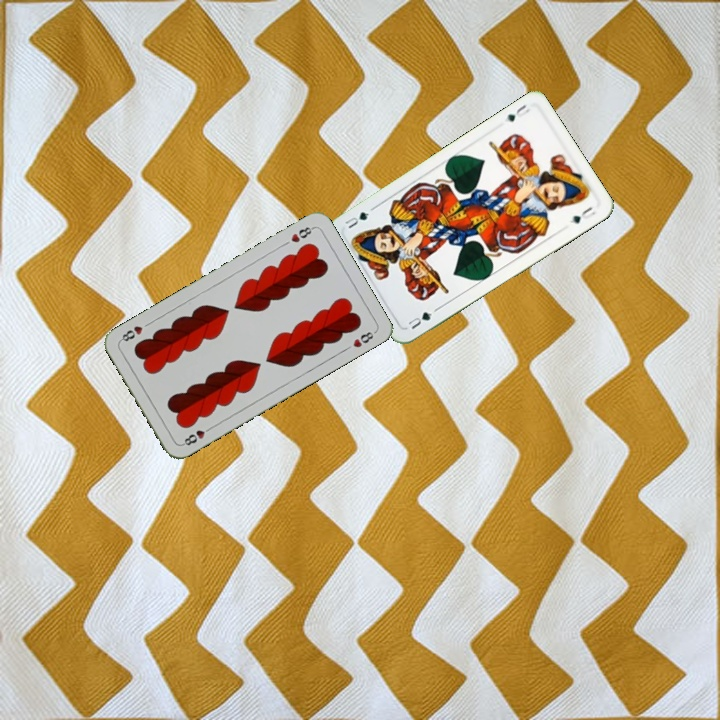GU: (404, 305, 440, 332), (501, 100, 533, 125)
H8: (178, 422, 215, 448), (287, 223, 316, 245)
